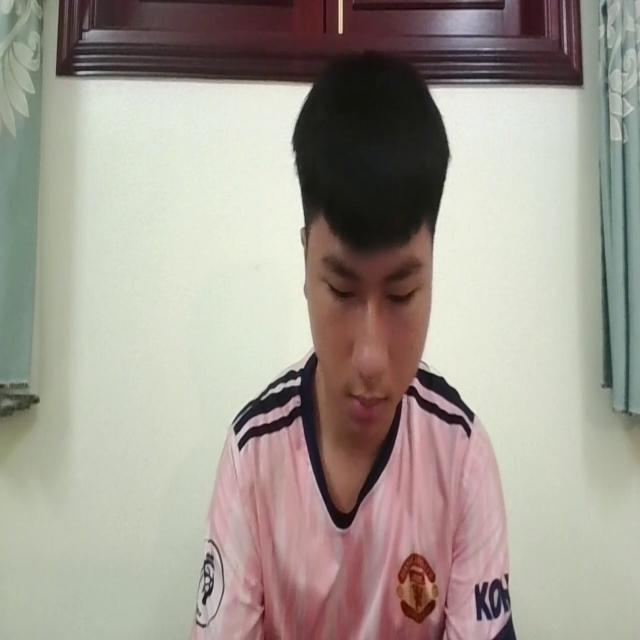student: (194, 49, 518, 640)
